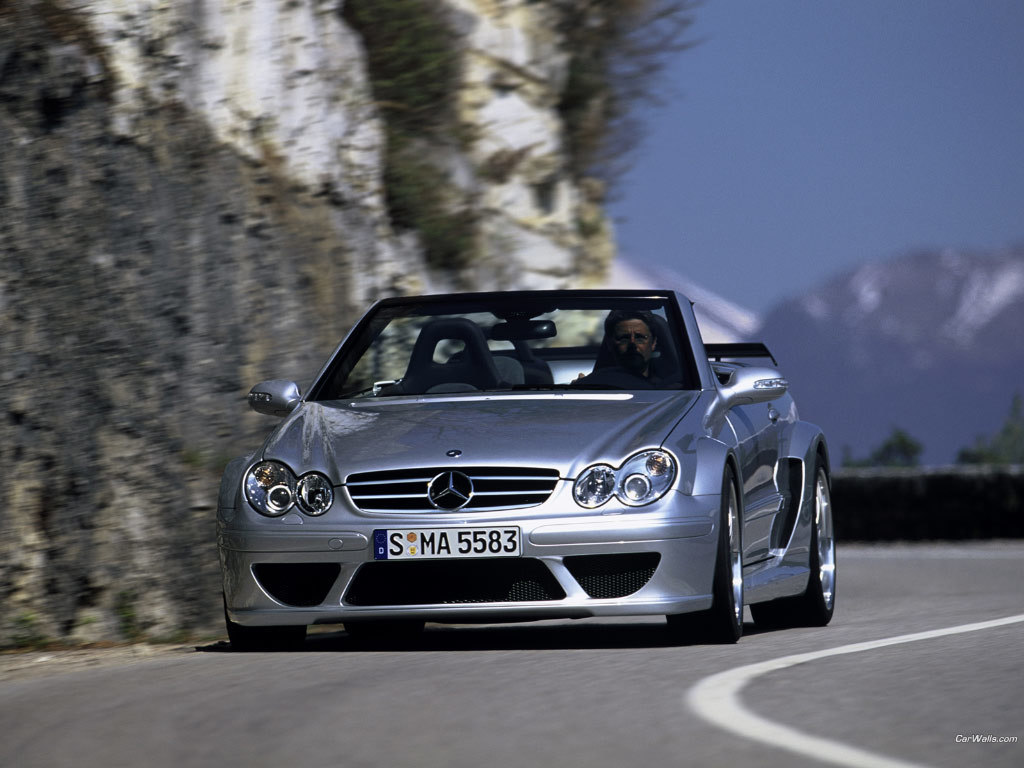Car: (213, 288, 837, 652)
